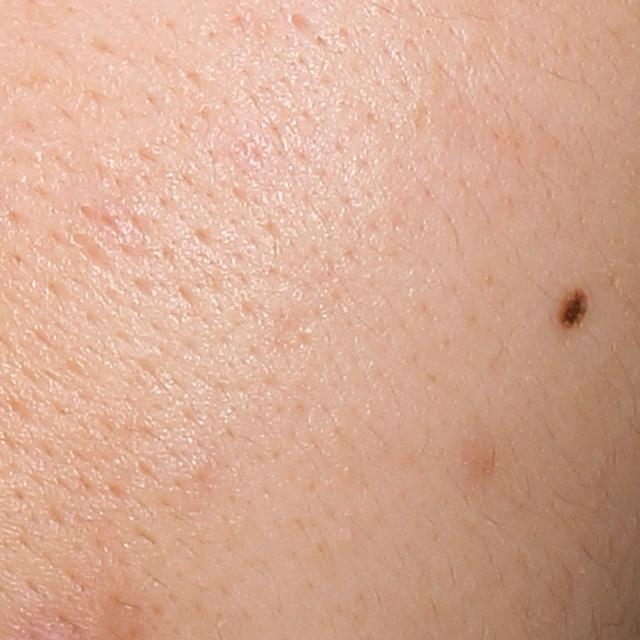atrophic_scar: (283, 7, 321, 41)
nevus: (560, 290, 588, 335)
